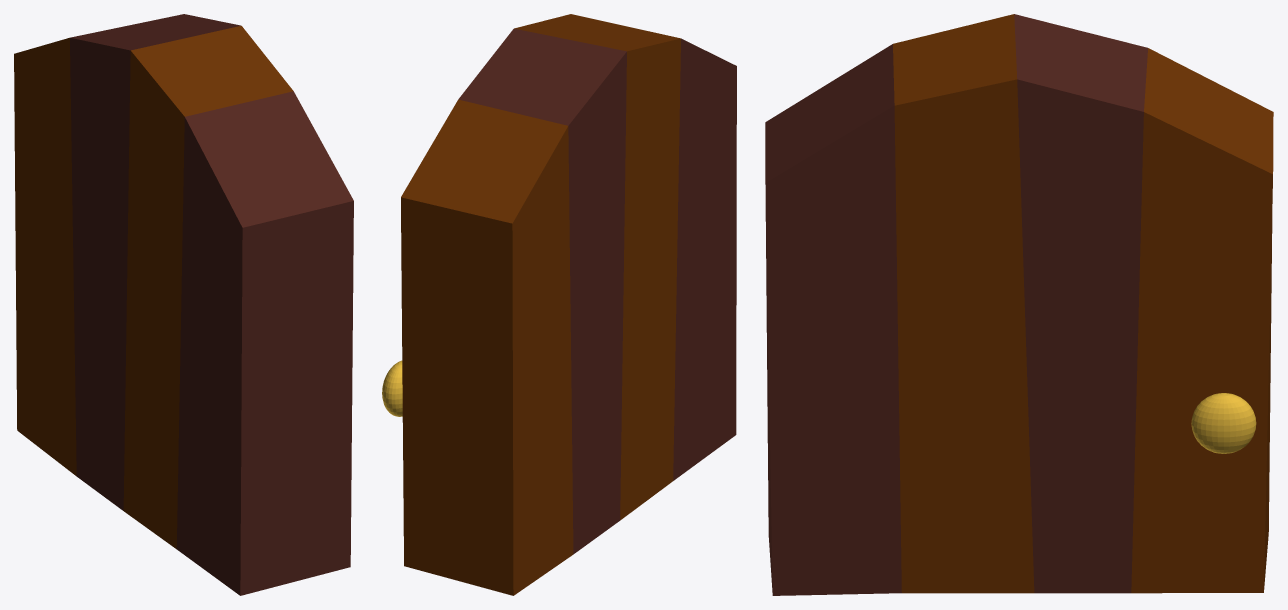
3 renders of one model, left to right at view 1: azimuth 30°, elevation 25°; view 2: azimuth 150°, elevation 25°; view 3: azimuth 270°, elevation 25°, orthographic. The views are drawn at different scales.
Parts seen in each view (by area): view 1: Cylinder; view 2: Cylinder; view 3: Cylinder.
Boxes of the visible parts, <box> form: Cylinder: <box>14,14,353,595</box>; Cylinder: <box>382,14,736,595</box>; Cylinder: <box>765,14,1273,595</box>.
Bounding box in the file's own units: 43.79 × 132 × 117.
